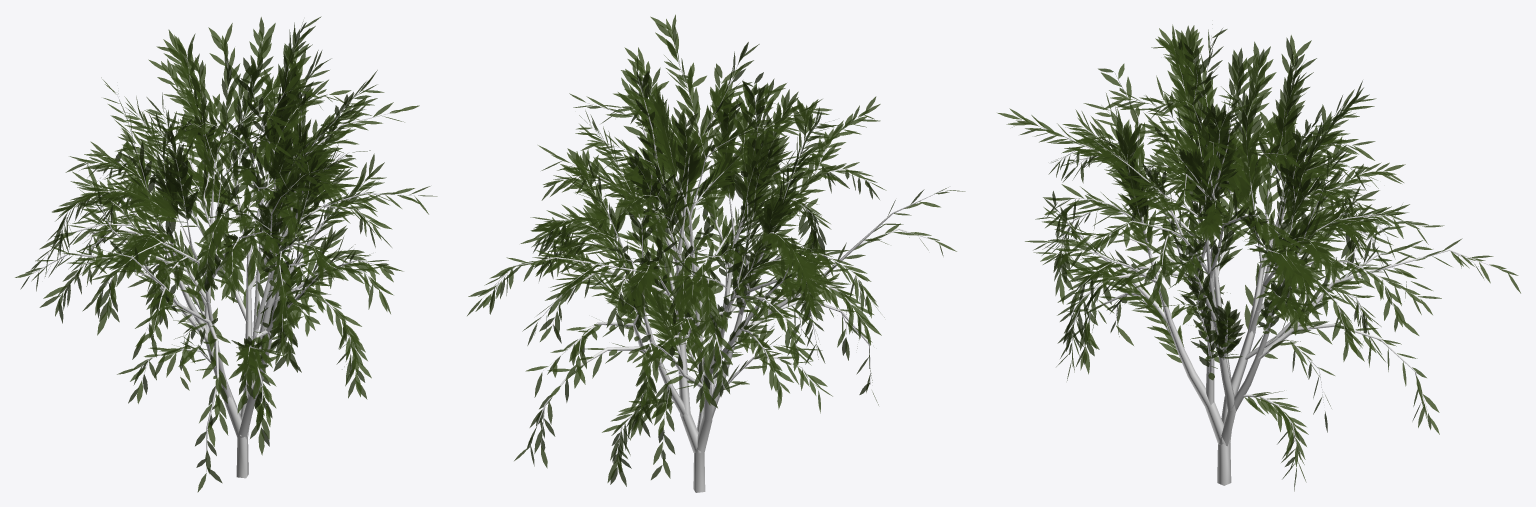
Rendered from Tree 1.fbx.
The picture shows the model from 3 angles, left to right: view 1: azimuth 30°, elevation 25°; view 2: azimuth 150°, elevation 25°; view 3: azimuth 270°, elevation 25°; orthographic projection. The views are drawn at different scales.
Visible parts, largest first — view 1: leaves 1, Tree 1; view 2: leaves 1, Tree 1; view 3: leaves 1, Tree 1.
Boxes of the visible parts, <box> form: leaves 1: <box>15,16,437,492</box>; Tree 1: <box>31,31,413,478</box>; leaves 1: <box>467,14,965,486</box>; Tree 1: <box>483,31,943,492</box>; leaves 1: <box>997,24,1520,491</box>; Tree 1: <box>1023,36,1497,485</box>.
Size of the model in its own units: 606 by 727 by 749.
